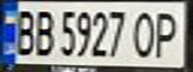2: (90, 7, 112, 58)
5: (54, 6, 75, 57)
7: (106, 7, 130, 58)
9: (72, 7, 93, 57)
B: (9, 6, 39, 56), (30, 6, 57, 57)
O: (127, 7, 160, 58)
P: (148, 7, 187, 60)
